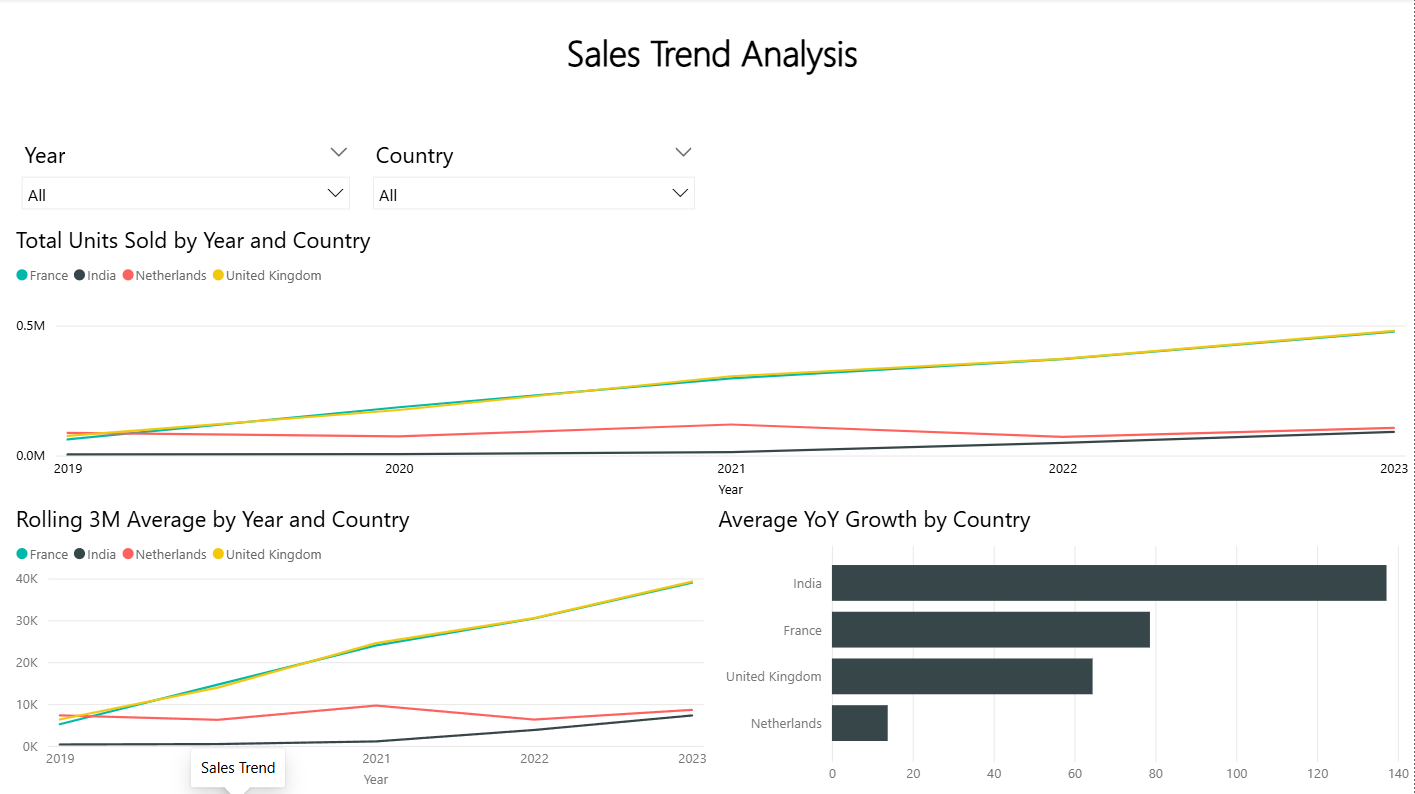

What the dashboard file says about the page in this screenshot:
{"tool":"powerbi","page":{"name":"Sales Trend","canvas":[1280,720],"ordinal":1},"visuals":[{"type":"lineChart","title":"Total Units Sold by Year and Country","fields":{"Category":["pbi_dim_date.date.Variation.Date Hierarchy.Year","pbi_dim_date.date.Variation.Date Hierarchy.Quarter","pbi_dim_date.date.Variation.Date Hierarchy.Month","pbi_dim_date.date.Variation.Date Hierarchy.Day"],"Y":["pbi_fact_sales.Total Units Sold"],"Series":["pbi_fact_sales.country"]},"box":[10.5,204.7,1269.8,252.3],"z":0},{"type":"lineChart","title":"Rolling 3M Average by Year and Country","fields":{"Category":["pbi_dim_date.date.Variation.Date Hierarchy.Year","pbi_dim_date.date.Variation.Date Hierarchy.Quarter","pbi_dim_date.date.Variation.Date Hierarchy.Month","pbi_dim_date.date.Variation.Date Hierarchy.Day"],"Y":["pbi_fact_sales.Rolling 3M Avg"],"Series":["pbi_fact_sales.country"]},"box":[10.5,457,634.9,262.8],"z":1000},{"type":"clusteredBarChart","title":"Average YoY Growth by Country","fields":{"Category":["pbi_fact_sales.country"],"Y":["pbi_fact_sales.Avg YoY Growth %"]},"box":[645.4,457,634.9,262.8],"z":2000},{"type":"slicer","fields":{"Values":["pbi_dim_date.year"]},"box":[10.5,123.3,317.4,74.4],"z":3000},{"type":"slicer","fields":{"Values":["pbi_fact_sales.country"]},"box":[327.9,123.3,311.6,81.4],"z":4000},{"type":"textbox","box":[10.5,22.1,1269.8,68.6],"z":4001}]}

Visuals, with their boxes in screenshot pixels (x1, y1, x2, y2), scaled from the page's 1280x720 canvas onto the 1415x794 screenshot:
"Total Units Sold by Year and Country" lineChart: l=12, t=226, r=1414, b=504
"Rolling 3M Average by Year and Country" lineChart: l=12, t=504, r=713, b=793
"Average YoY Growth by Country" clusteredBarChart: l=713, t=504, r=1414, b=793
slicer - pbi_dim_date.year: l=12, t=136, r=362, b=218
slicer - pbi_fact_sales.country: l=362, t=136, r=707, b=226
textbox: l=12, t=24, r=1414, b=100
